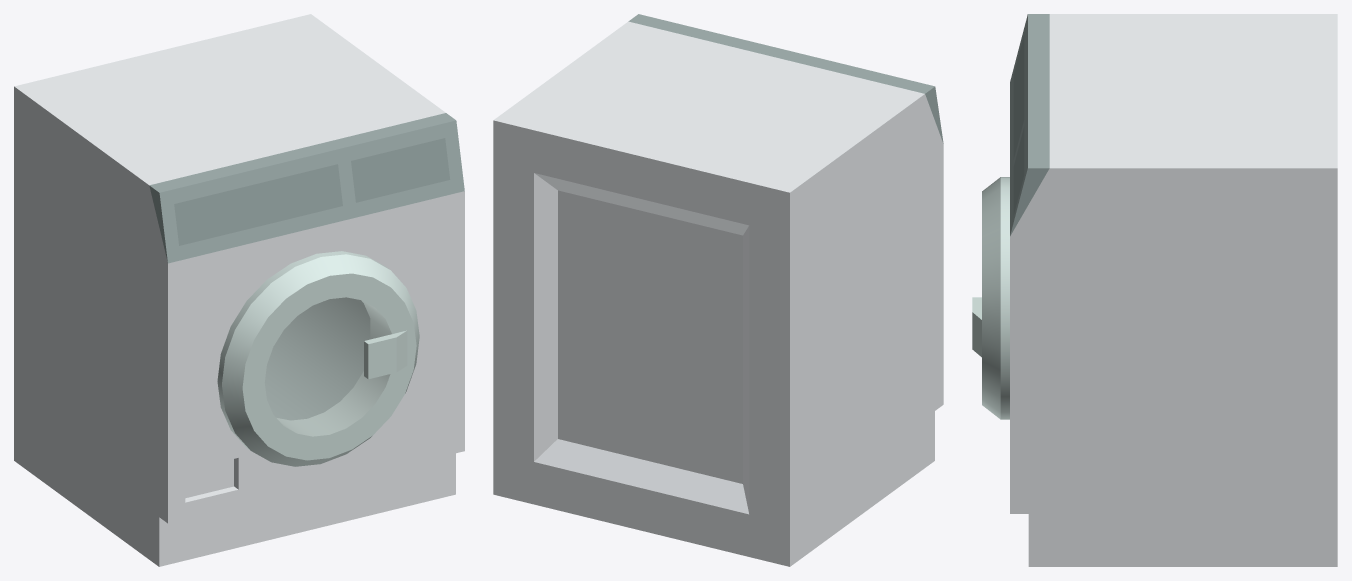
The model's file is washer.optimized.glb.
The picture shows the model from 3 angles, left to right: view 1: azimuth 30°, elevation 25°; view 2: azimuth 150°, elevation 25°; view 3: azimuth 270°, elevation 25°; orthographic projection. The views are drawn at different scales.
Parts seen in each view (by area): view 1: washer(Clone), washerDoor; view 2: washer(Clone); view 3: washer(Clone).
Part boxes in pixels (x1=…): washer(Clone): x1=14, y1=14, x2=464, y2=566; washerDoor: x1=265, y1=297, x2=391, y2=436; washer(Clone): x1=493, y1=14, x2=943, y2=566; washer(Clone): x1=972, y1=14, x2=1337, y2=566.
Size of the model in its own units: 0.39 by 0.47 by 0.39.
2 materials, 2 textured.
